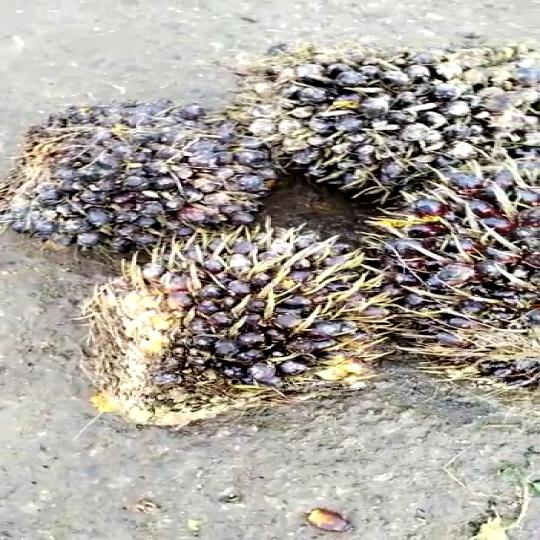mentah: (89, 220, 388, 429), (362, 169, 540, 405), (4, 93, 275, 248), (240, 53, 540, 187)
